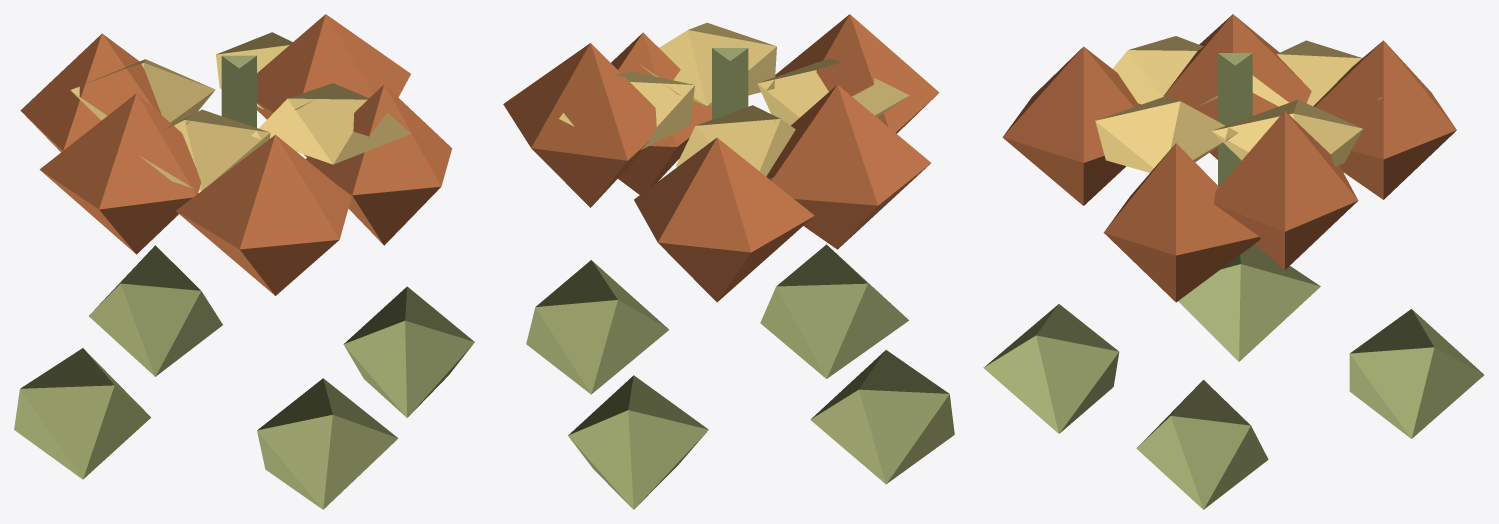
The model's file is shui.lian@fruiting__autumn.glb.
3 views of the same model, side by side, from view 1: azimuth 30°, elevation 25°; view 2: azimuth 150°, elevation 25°; view 3: azimuth 270°, elevation 25° (orthographic). The views are drawn at different scales.
Visible parts, largest first — view 1: shui.lian@fruiting__autumn; view 2: shui.lian@fruiting__autumn; view 3: shui.lian@fruiting__autumn.
Boxes of the visible parts, x1=… form: shui.lian@fruiting__autumn: x1=14, y1=14, x2=474, y2=509; shui.lian@fruiting__autumn: x1=503, y1=14, x2=954, y2=509; shui.lian@fruiting__autumn: x1=983, y1=14, x2=1483, y2=509.
Bounding box in the file's own units: 1.09 × 0.9148 × 1.09.
